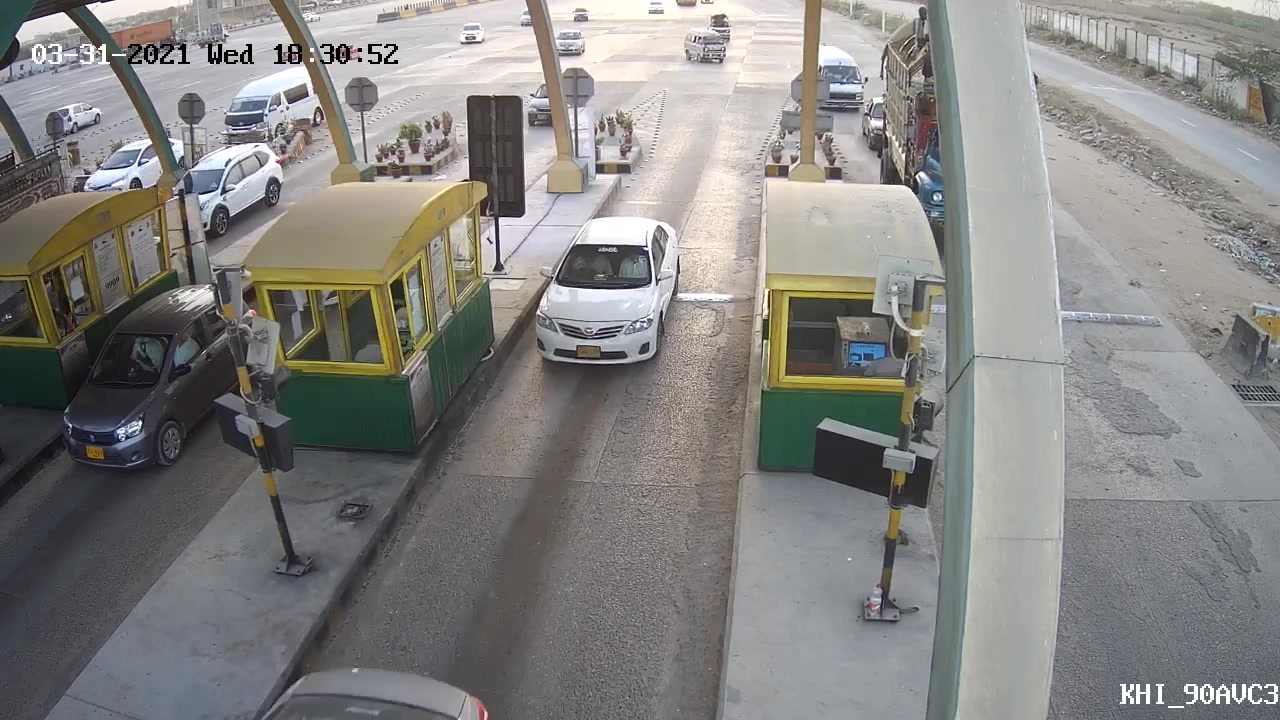F1: (512, 207, 682, 373)
